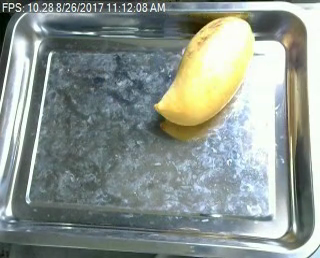Mango: (152, 15, 258, 131)
